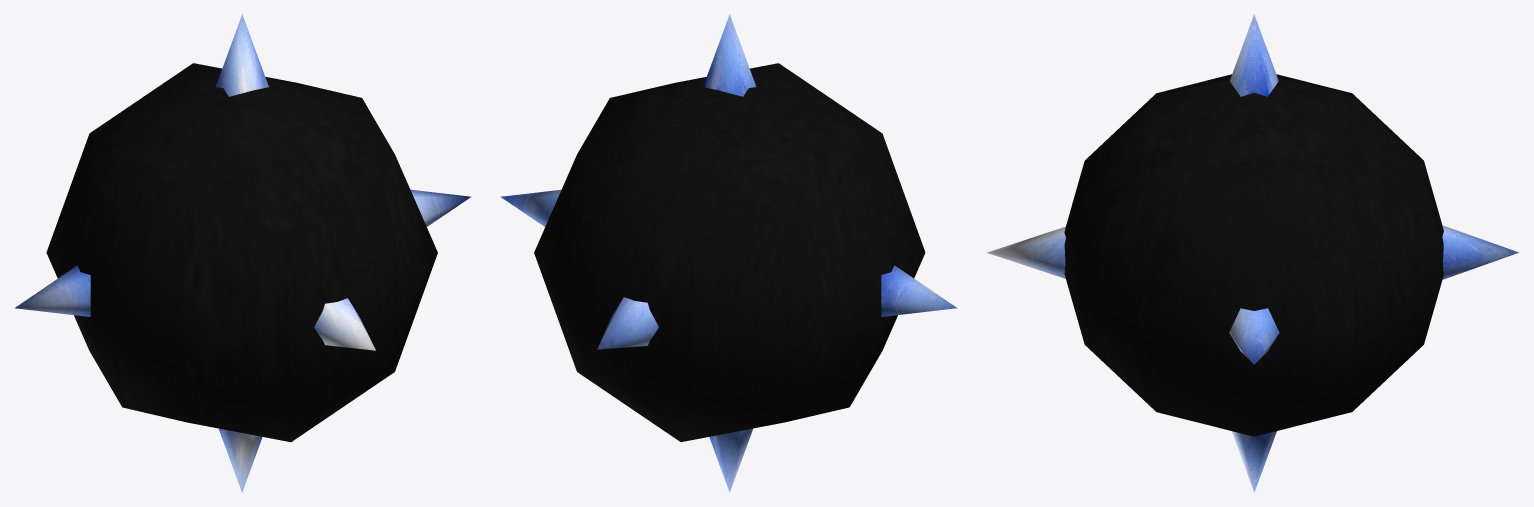
Rendered from Spikeball.obj.
3 renders of one model, left to right at view 1: azimuth 30°, elevation 25°; view 2: azimuth 150°, elevation 25°; view 3: azimuth 270°, elevation 25°, orthographic.
Size of the model in its own units: 27.23 by 27.25 by 27.48.
Materials: 2 (2 with a texture image).
